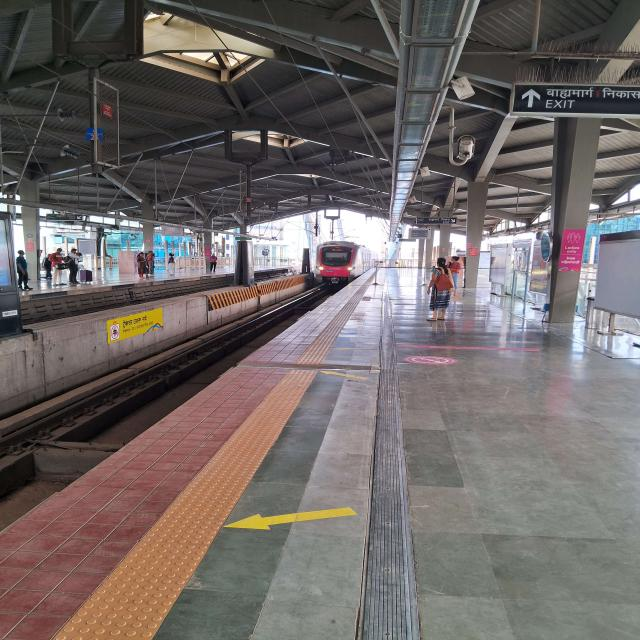train: (312, 234, 378, 288)
